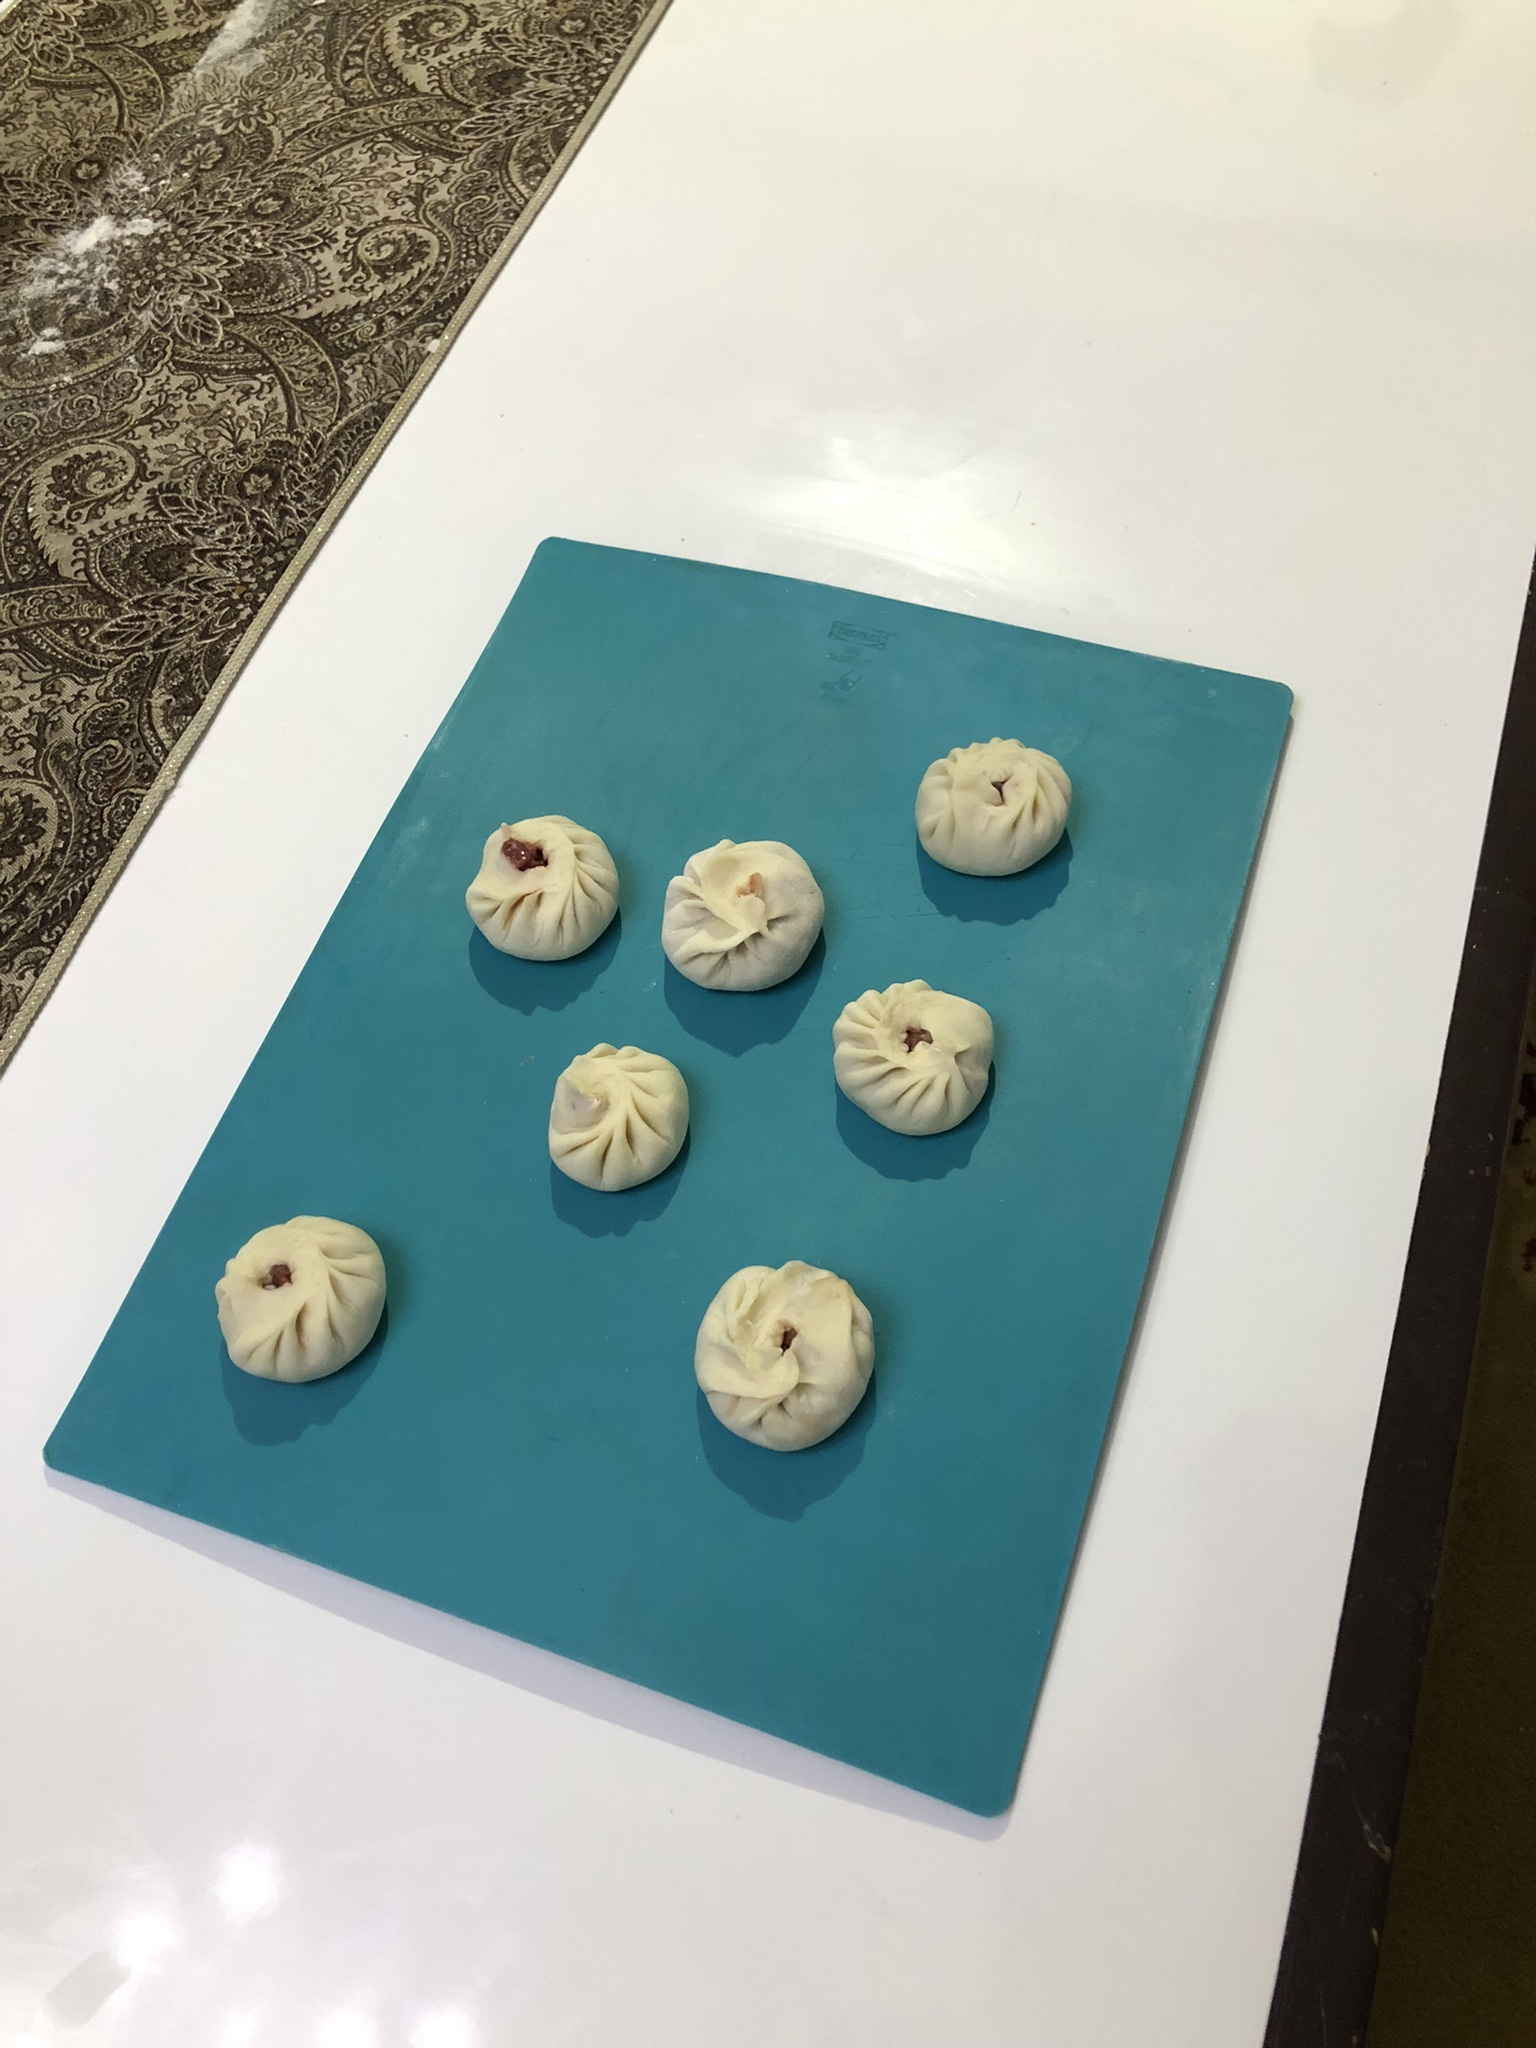buuz: (682, 1247, 892, 1464), (203, 1200, 402, 1400), (820, 972, 1008, 1155), (529, 1029, 700, 1200), (655, 832, 828, 1000), (458, 806, 628, 972), (904, 732, 1078, 890)
